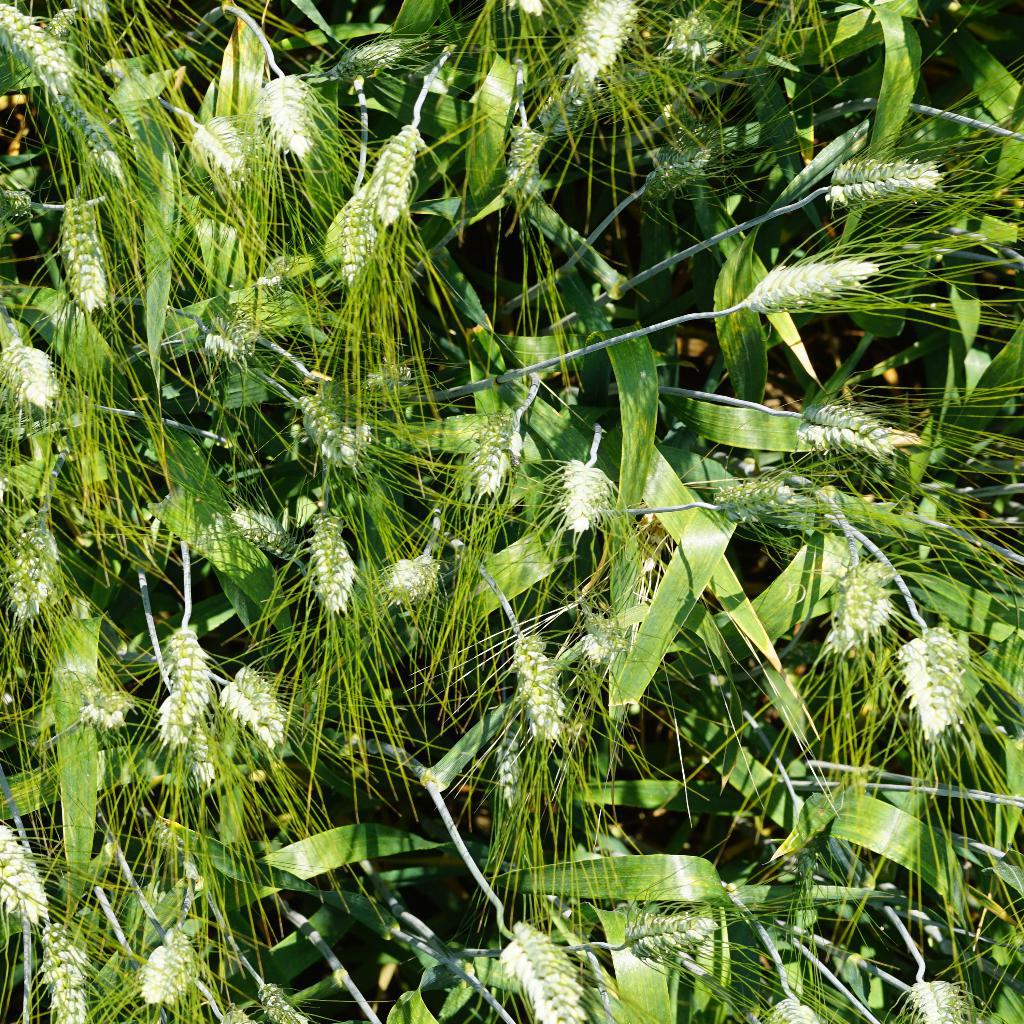0-0: (727, 250, 904, 317), (499, 909, 600, 1024), (456, 387, 545, 508), (792, 387, 909, 474), (496, 610, 572, 743), (148, 612, 215, 759), (806, 152, 950, 215), (58, 193, 131, 316), (256, 47, 329, 168), (899, 615, 970, 739), (51, 92, 137, 194), (818, 553, 904, 654), (210, 663, 295, 761), (710, 473, 840, 537), (291, 378, 381, 470), (537, 441, 621, 537), (212, 489, 302, 571), (332, 180, 403, 283), (497, 112, 564, 220), (0, 505, 62, 620), (568, 0, 639, 97), (33, 923, 101, 1024), (0, 309, 68, 410), (647, 114, 725, 202), (0, 0, 73, 94), (381, 115, 434, 242), (299, 504, 357, 619), (119, 925, 193, 1008), (486, 715, 537, 827), (70, 662, 137, 747), (627, 904, 721, 964), (0, 817, 51, 926), (189, 288, 265, 358), (185, 111, 256, 185), (320, 34, 451, 74), (374, 542, 447, 612), (533, 70, 604, 137), (654, 11, 750, 60), (908, 959, 978, 1024), (574, 609, 638, 676), (311, 376, 375, 442), (783, 809, 826, 898), (245, 978, 312, 1024), (175, 729, 220, 796), (358, 357, 423, 403), (250, 251, 298, 295), (0, 163, 34, 223)
